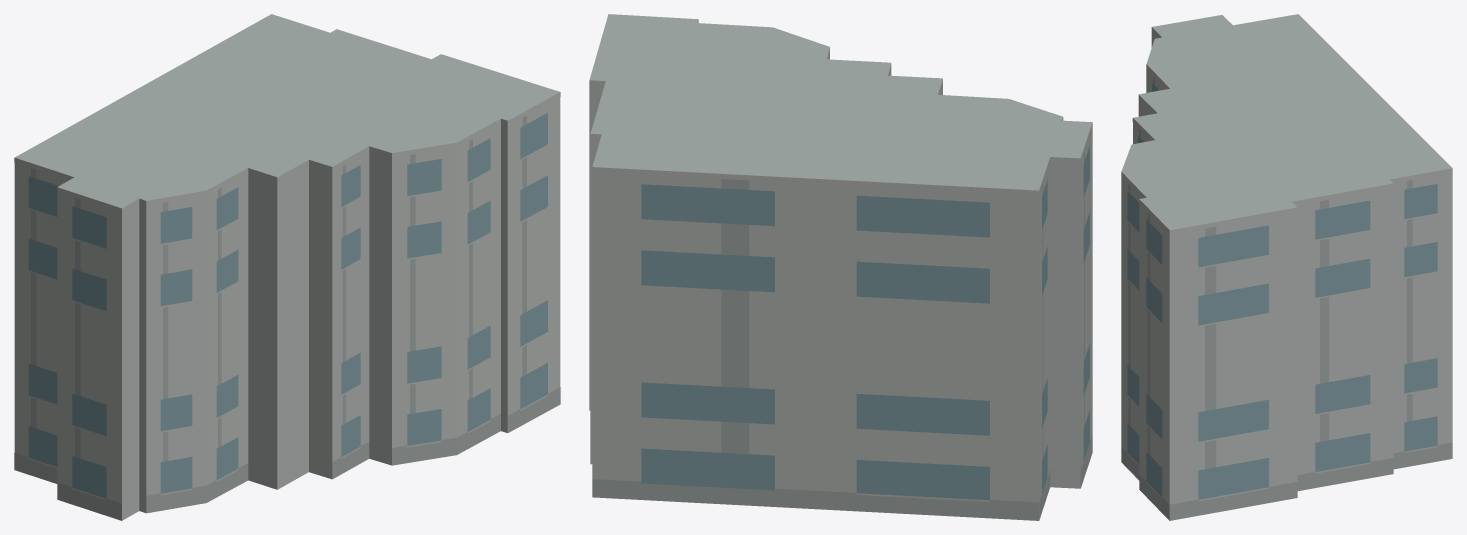
Rendered from survey-upis-32698420.glb.
The picture shows the model from 3 angles, left to right: view 1: azimuth 30°, elevation 25°; view 2: azimuth 150°, elevation 25°; view 3: azimuth 270°, elevation 25°; orthographic projection. The views are drawn at different scales.
Parts seen in each view (by area): view 1: survey-upis-32698420.tmp; view 2: survey-upis-32698420.tmp; view 3: survey-upis-32698420.tmp.
Part boxes in pixels (<box>): survey-upis-32698420.tmp: <box>14,14,560,520</box>; survey-upis-32698420.tmp: <box>589,14,1092,520</box>; survey-upis-32698420.tmp: <box>1121,14,1452,520</box>.
Size of the model in its own units: 24.59 by 15.4 by 15.92.
